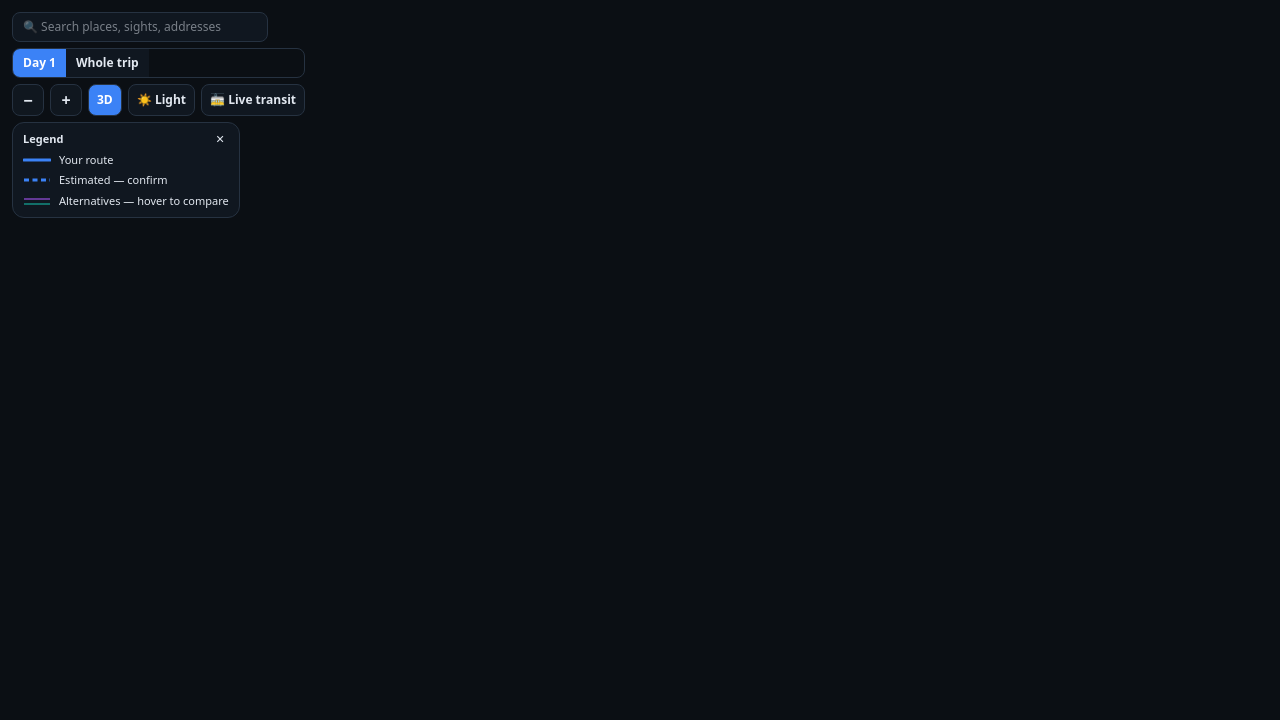
Test case: TripMap › map search: pick a result → pin + card; editors add it to the day
In the dropdown named "Search the map": (140, 27) [12,12,268,42], type "colosseum"
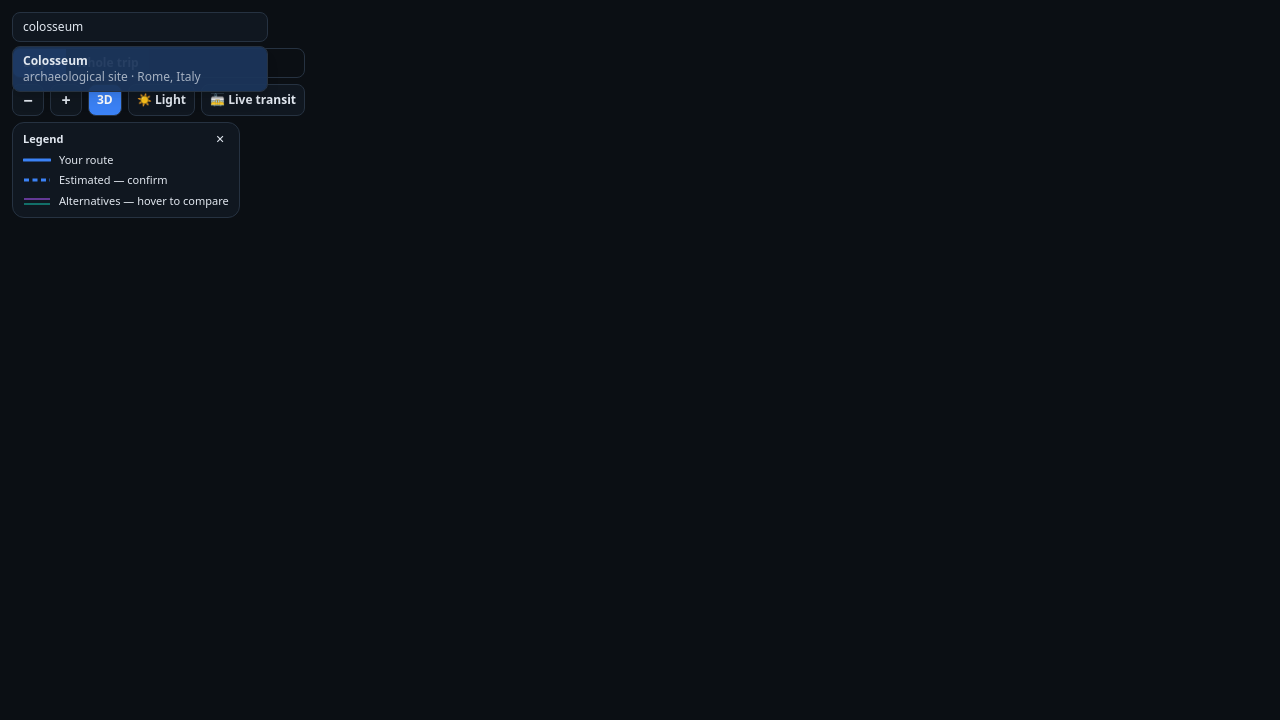
Press the mouse on the button "Colosseum archaeological site · Rome, Italy": (140, 69) [13,47,267,91]
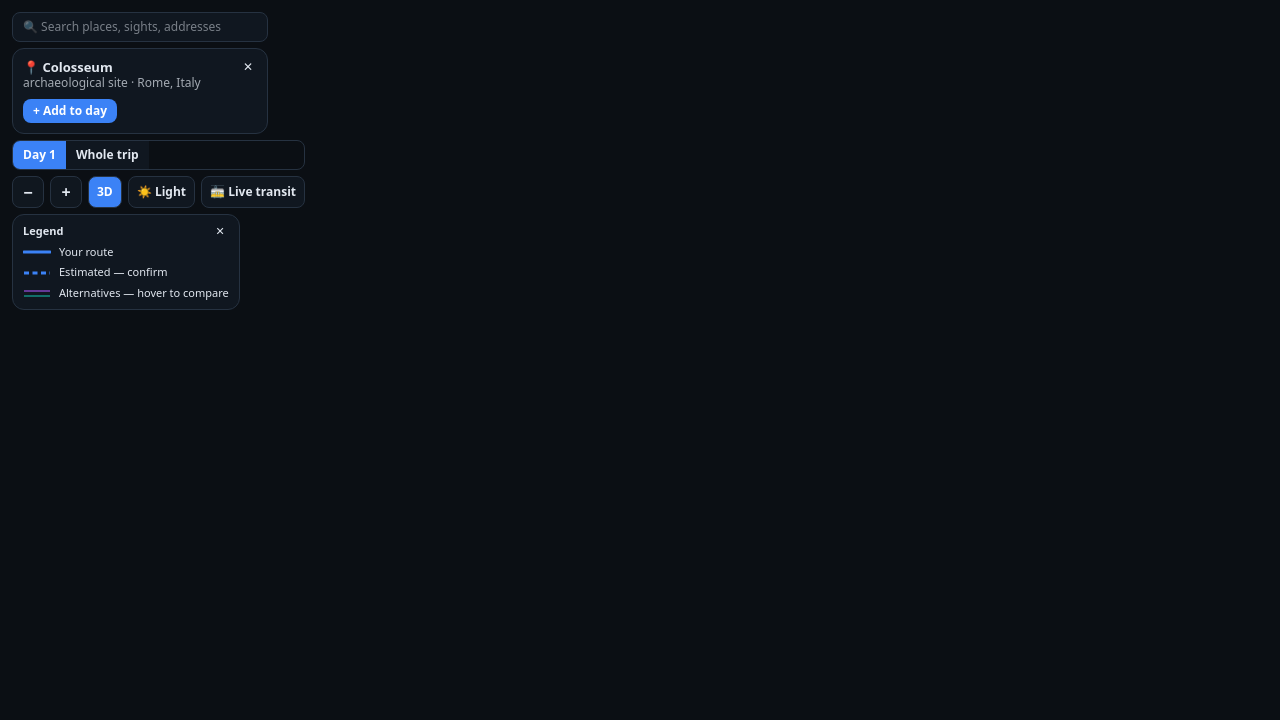
Now the dialog named "Place: Colosseum" shows "archaeological site · Rome, Italy", box [23,74,201,91]
Click the button "+ Add to day": (70, 111) [23,99,117,123]
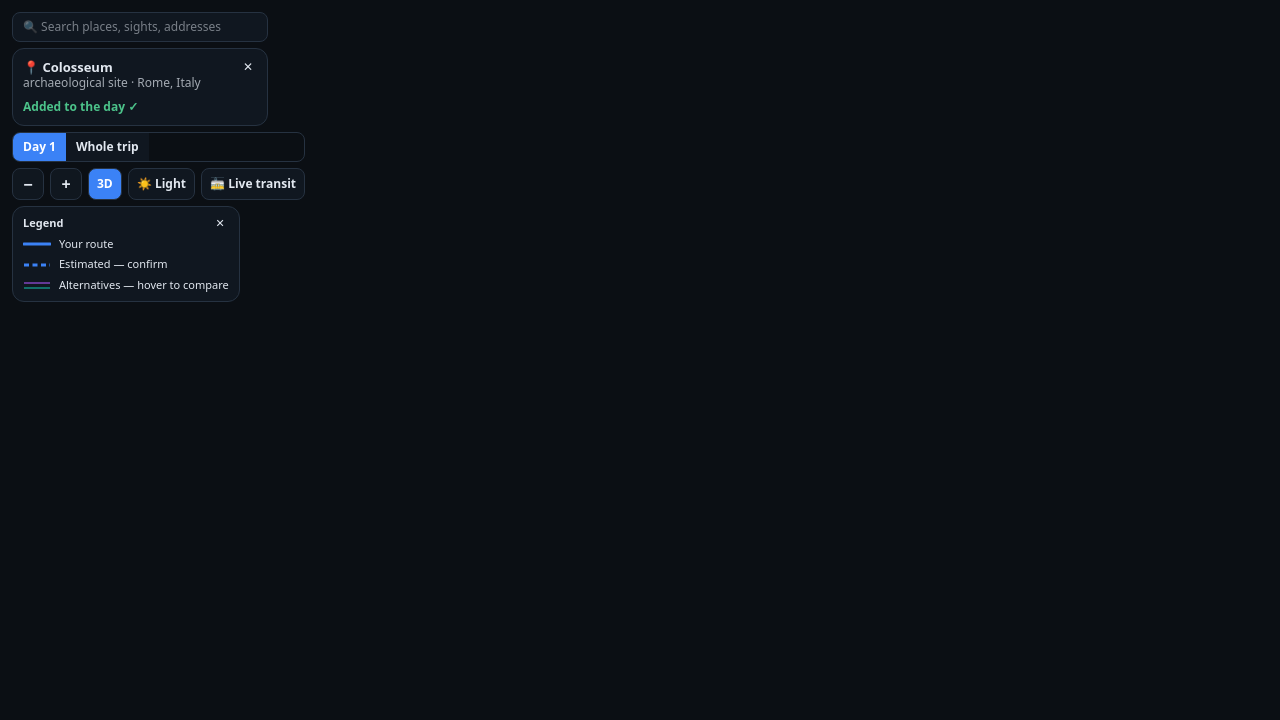
Now the text "Added to the day ✓" is shown, box [23,99,138,115]
